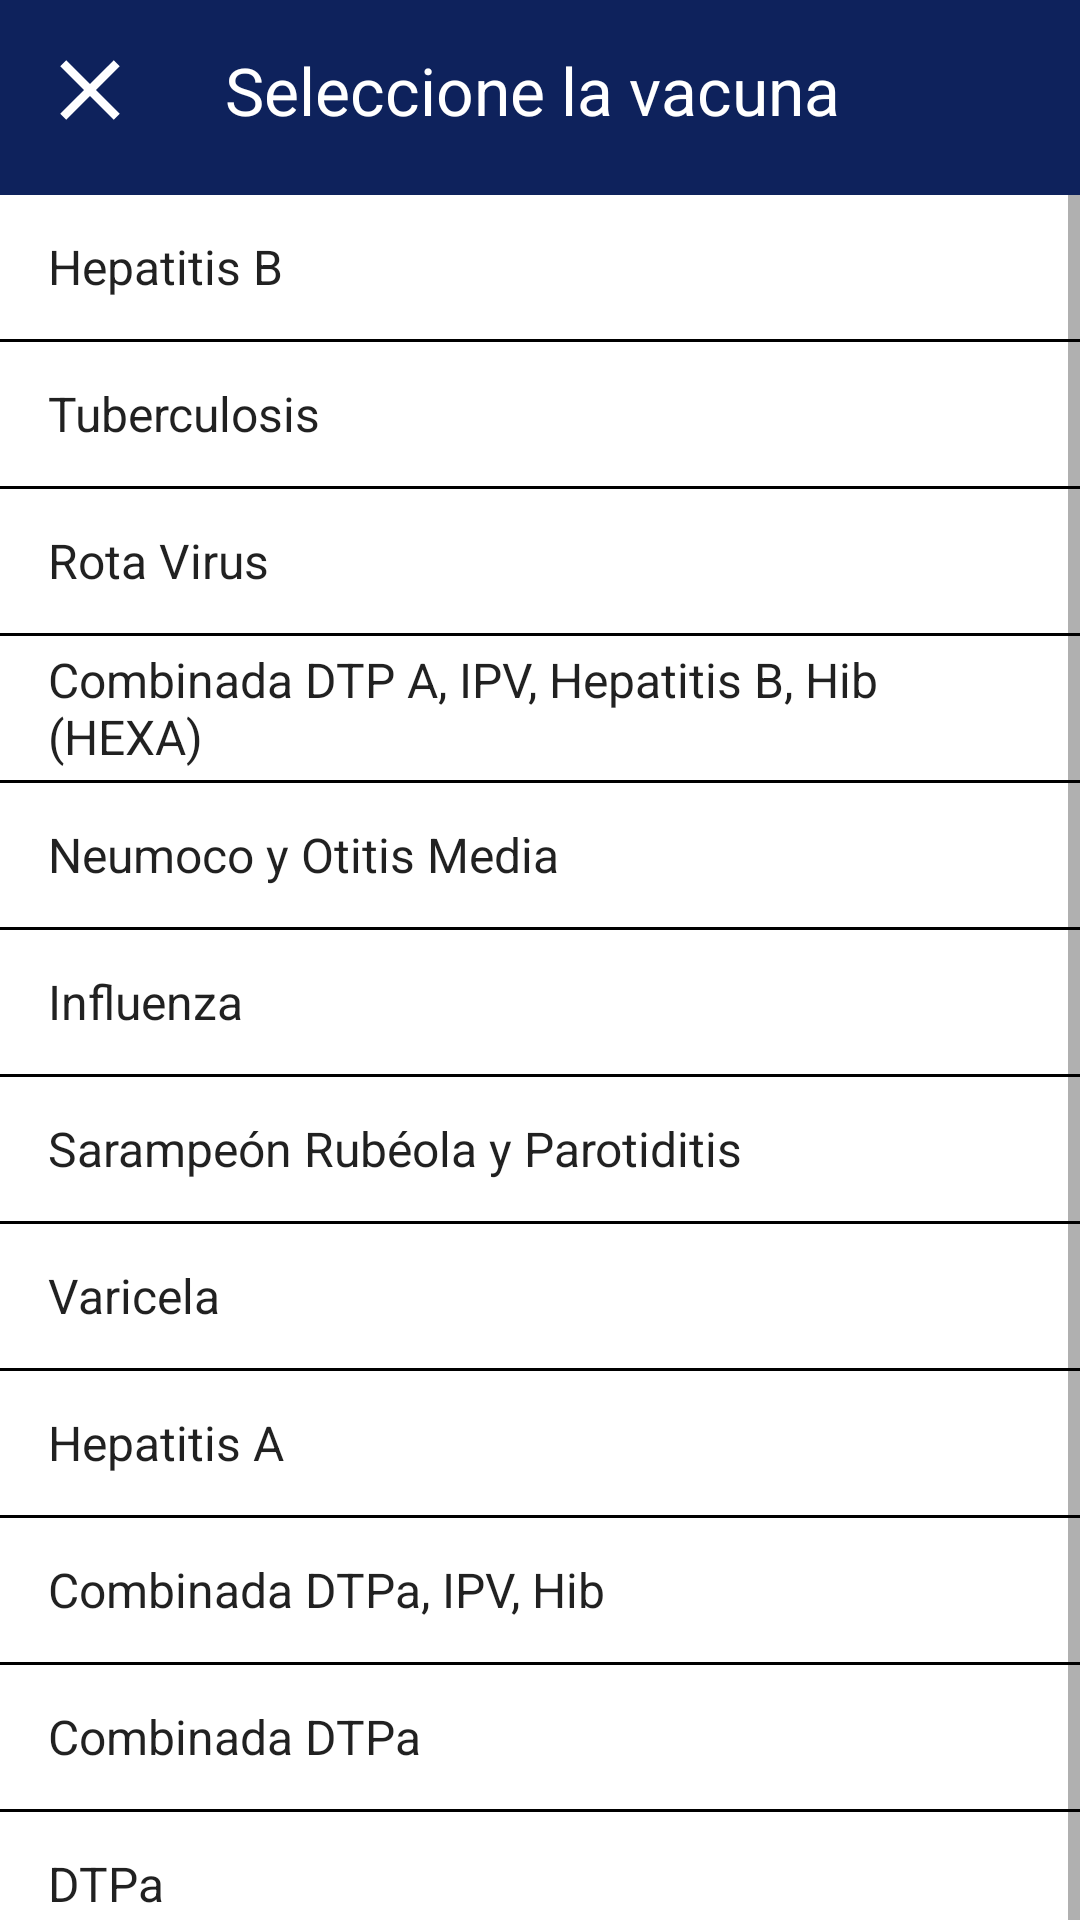

Named icons in this screenshot (1080px x 1920px) and their centers, (x=x, y=y):
close: (x=90, y=90)
